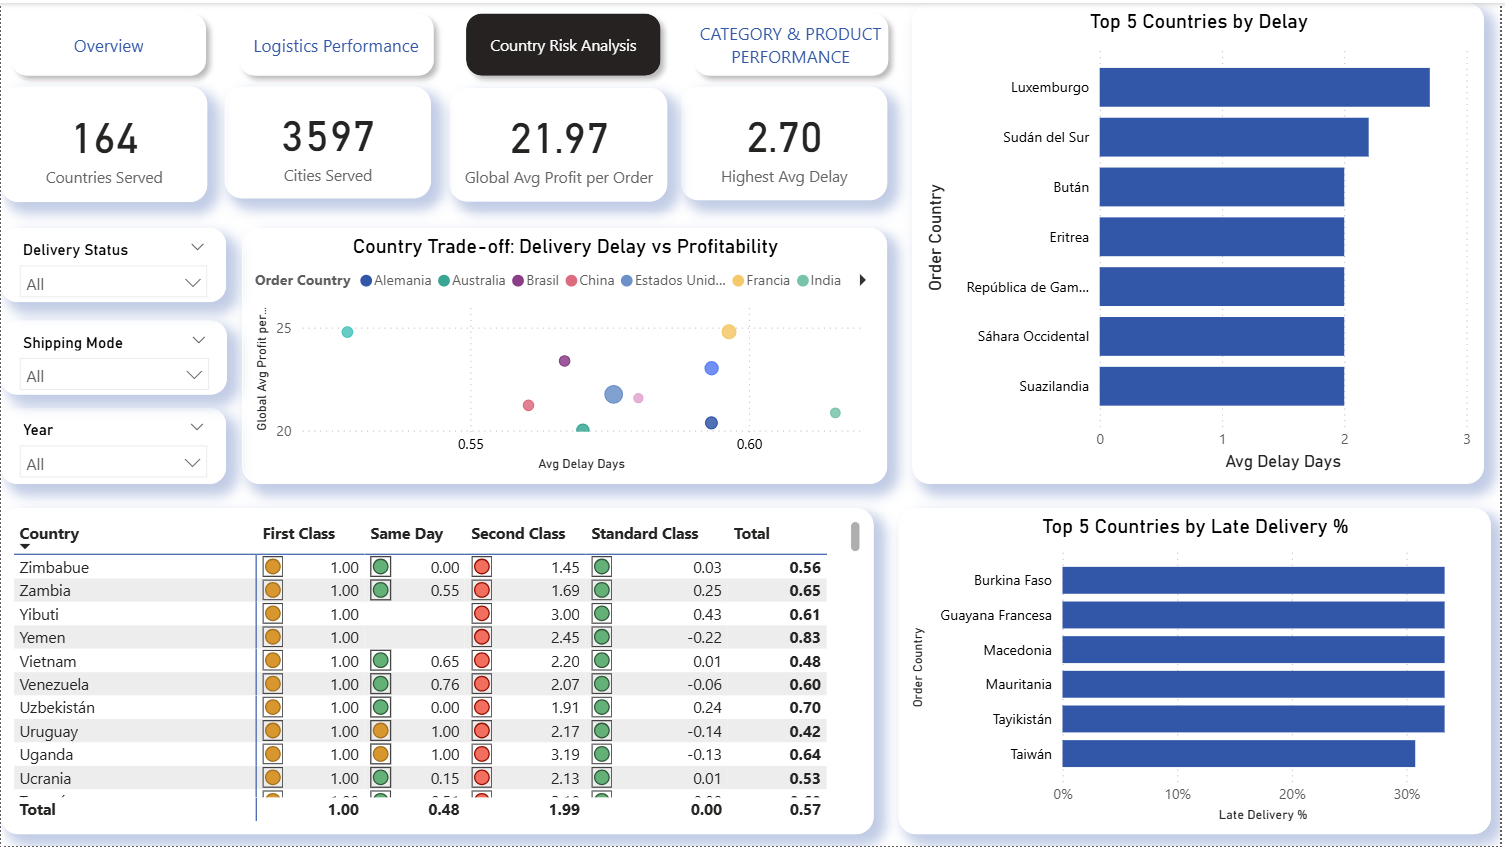

The page's visual inventory and layout, read from the dashboard file:
{"tool":"powerbi","page":{"name":"Country Risk Analysis","canvas":[1280,720],"ordinal":2},"visuals":[{"type":"pageNavigator","box":[0,0,766.9,71.3],"z":0},{"type":"card","fields":{"Values":["Meassure.Country served"]},"box":[0,71.3,175.8,98.1],"z":1000},{"type":"card","fields":{"Values":["Meassure.Highest avg delay"]},"box":[580.9,71.3,175.8,96.8],"z":2000},{"type":"card","fields":{"Values":["Meassure.Avg profit Global"]},"box":[383.4,72.6,186,96.8],"z":3000},{"type":"slicer","fields":{"Values":["supplychain_cleaned_data.order_year"]},"box":[0,345.4,191.6,64.7],"z":4000},{"type":"slicer","fields":{"Values":["supplychain_cleaned_data.Shipping Mode"]},"box":[0,271,193.1,63],"z":5000},{"type":"slicer","fields":{"Values":["supplychain_cleaned_data.Delivery Status"]},"box":[0,192.1,192.1,63],"z":6000},{"type":"card","fields":{"Values":["Meassure.Cities servered"]},"box":[191.1,71.3,175.8,95.5],"z":7000},{"type":"barChart","title":"Top 5 Countries by Delay","fields":{"Category":["supplychain_cleaned_data.Order Country"],"Y":["Meassure.Avg_Delay_Days"]},"box":[778.3,0,487.9,410.2],"z":8000},{"type":"scatterChart","title":"Country Trade-off: Delivery Delay vs Profitability","fields":{"X":["Meassure.Avg_Delay_Days"],"Series":["supplychain_cleaned_data.Order Country"],"Y":["Meassure.Avg profit Global"],"Size":["Meassure.Total Orders"]},"box":[206.3,191.6,550.4,218.5],"z":9000},{"type":"barChart","title":"Top 5 Countries by Late Delivery % ","fields":{"Category":["supplychain_cleaned_data.Order Country"],"Y":["Meassure.Late_delivery %"]},"box":[766.4,430.8,505.3,278.3],"z":10000},{"type":"pivotTable","title":"Top 5 Countries by Delay days","fields":{"Rows":["supplychain_cleaned_data.Order Country"],"Values":["Meassure.Avg_Delay_Days"],"Columns":["supplychain_cleaned_data.Shipping Mode"]},"box":[0,431.1,744.8,278.5],"z":11000}]}

Visuals, with their boxes in screenshot pixels (x1, y1, x2, y2), scaled from the page's 1280x720 canvas onto the 1505x847 screenshot:
pageNavigator: 0/0/902/84
card - Meassure.Country served: 0/84/207/199
card - Meassure.Highest avg delay: 683/84/890/198
card - Meassure.Avg profit Global: 451/85/669/199
slicer - supplychain_cleaned_data.order_year: 0/406/225/482
slicer - supplychain_cleaned_data.Shipping Mode: 0/319/227/393
slicer - supplychain_cleaned_data.Delivery Status: 0/226/226/300
card - Meassure.Cities servered: 225/84/431/196
"Top 5 Countries by Delay" barChart: 915/0/1489/483
"Country Trade-off: Delivery Delay vs Profitability" scatterChart: 243/225/890/482
"Top 5 Countries by Late Delivery % " barChart: 901/507/1495/834
"Top 5 Countries by Delay days" pivotTable: 0/507/876/835
